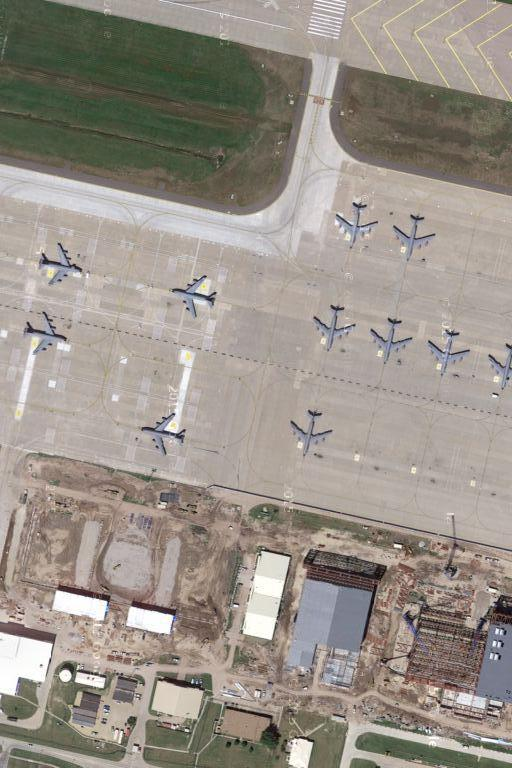KC-135: (136, 407, 190, 462), (366, 310, 415, 369), (310, 299, 359, 357), (167, 271, 222, 322), (390, 210, 438, 267), (422, 325, 475, 376), (18, 309, 72, 359), (334, 196, 383, 251), (288, 403, 335, 460), (35, 239, 83, 288), (486, 334, 511, 396)
